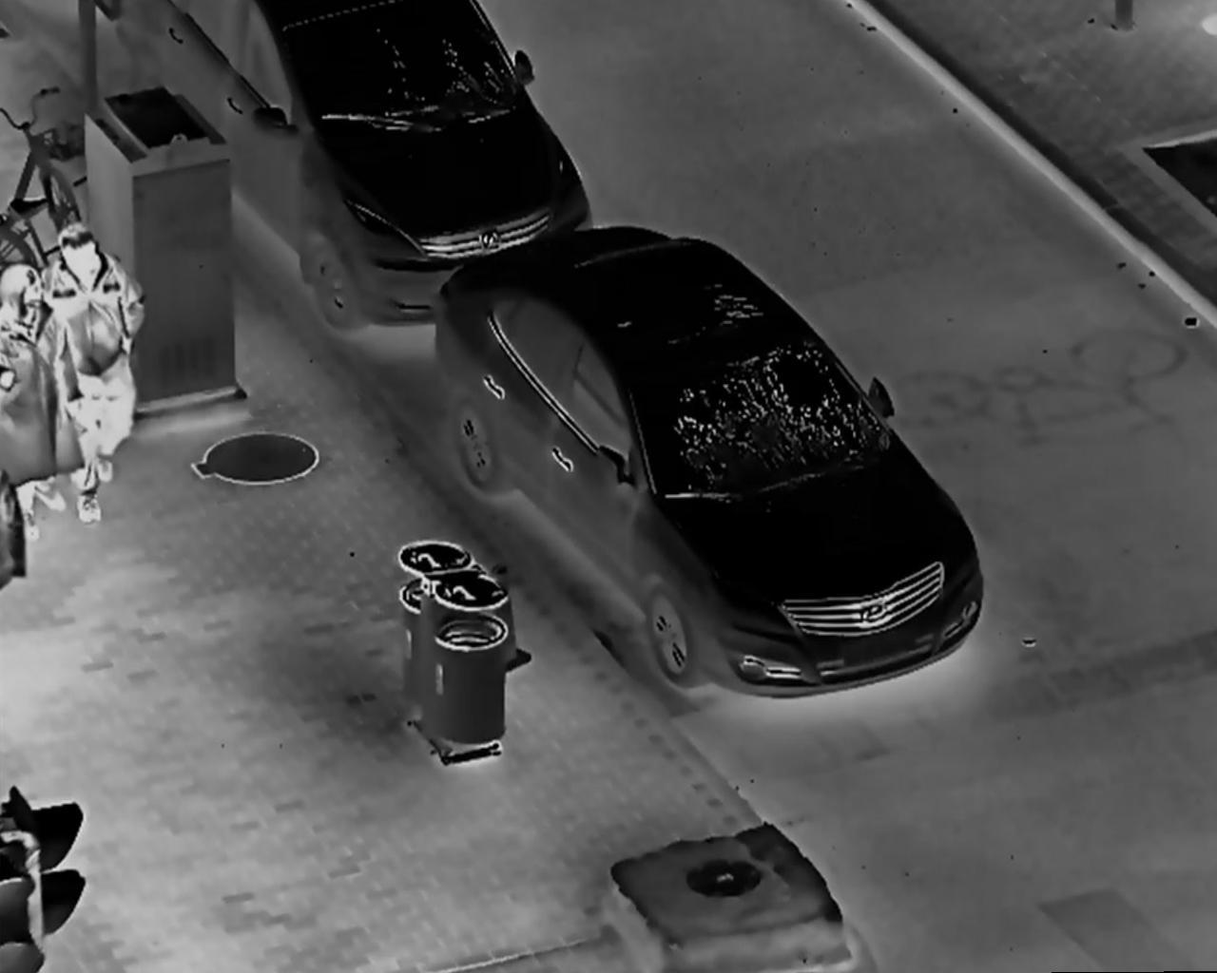person: (42, 219, 154, 532)
